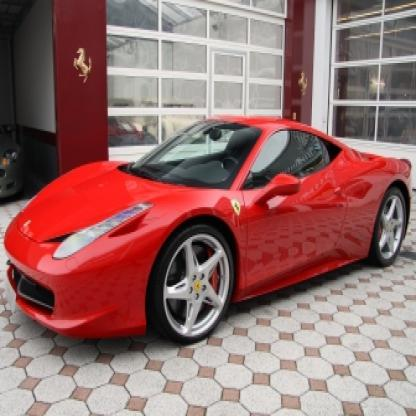Vehicle: (4, 116, 412, 351)
